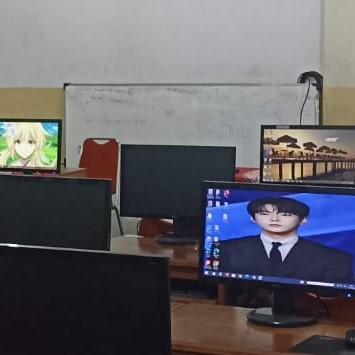monitor: (199, 181, 354, 309), (0, 243, 172, 350), (118, 144, 236, 240), (0, 175, 113, 251), (259, 125, 355, 186), (0, 119, 62, 173)
